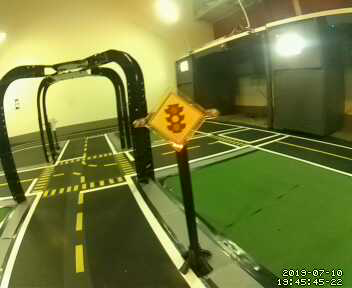Traffic light sign: (150, 91, 205, 149)
